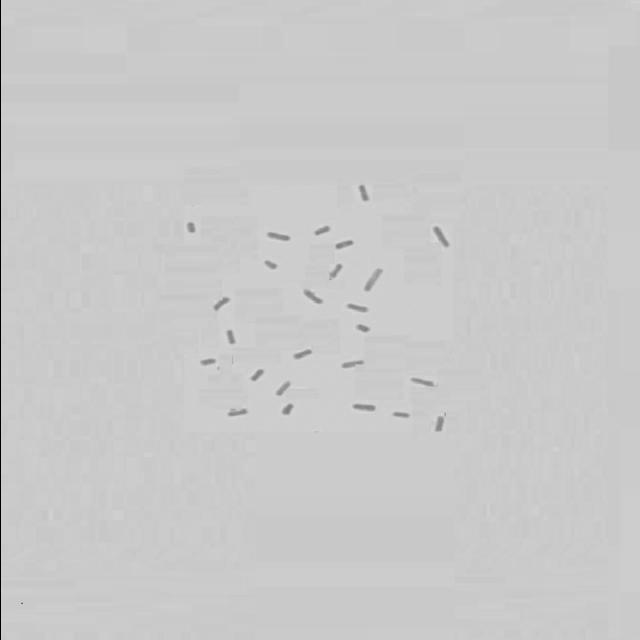E-coli: (358, 265, 386, 295), (428, 224, 455, 250), (338, 300, 372, 315), (352, 183, 374, 204), (300, 290, 328, 306), (263, 228, 293, 242), (429, 414, 449, 434), (244, 366, 266, 384), (209, 295, 232, 311), (330, 240, 358, 253), (410, 376, 436, 390), (348, 401, 378, 413), (197, 355, 222, 369), (339, 356, 363, 370), (222, 330, 242, 346), (288, 347, 312, 360), (387, 409, 411, 422), (312, 225, 332, 240), (183, 220, 201, 236), (326, 263, 344, 279), (273, 381, 291, 397), (350, 323, 374, 334), (259, 259, 279, 272), (224, 407, 248, 417), (279, 405, 295, 417)
